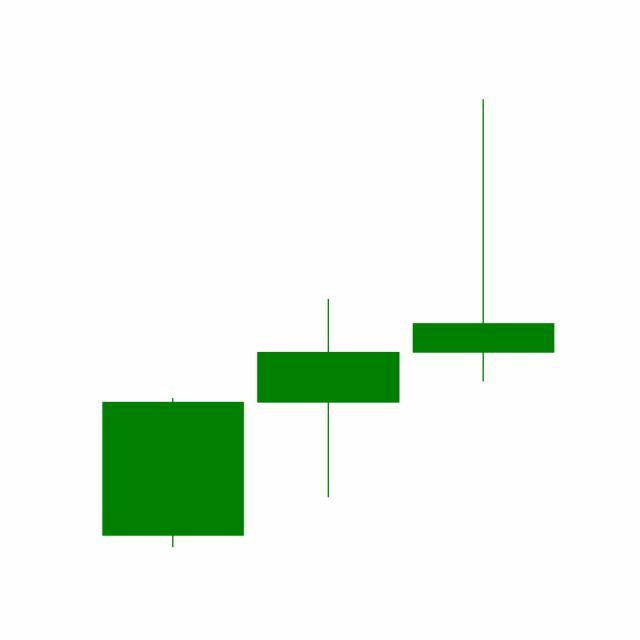Spinning Top: (406, 96, 562, 385)
